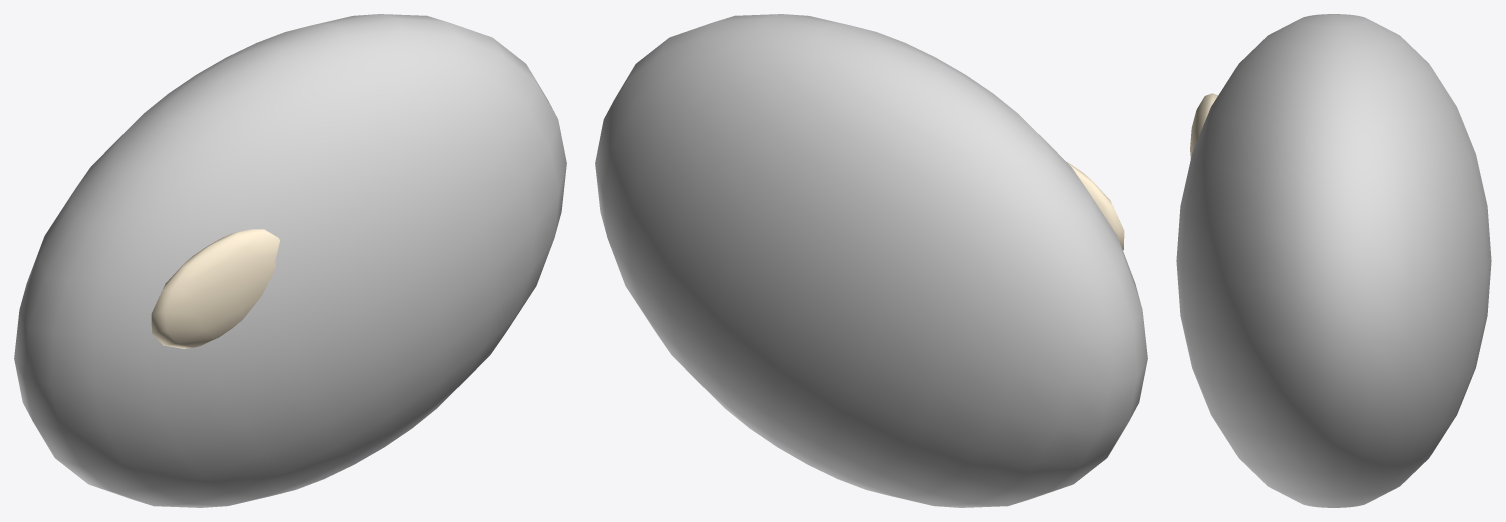
Rendered from music-note.glb.
3 views of the same model, side by side, from view 1: azimuth 30°, elevation 25°; view 2: azimuth 150°, elevation 25°; view 3: azimuth 270°, elevation 25° (orthographic). The views are drawn at different scales.
Parts seen in each view (by area): view 1: music-note; view 2: music-note; view 3: music-note.
Part boxes in pixels (<box>): music-note: <box>14,14,566,507</box>; music-note: <box>595,14,1147,507</box>; music-note: <box>1176,14,1491,507</box>.
Bounding box in the file's own units: 0.5832 × 0.4616 × 0.28.
Materials: 2 (1 with a texture image).
